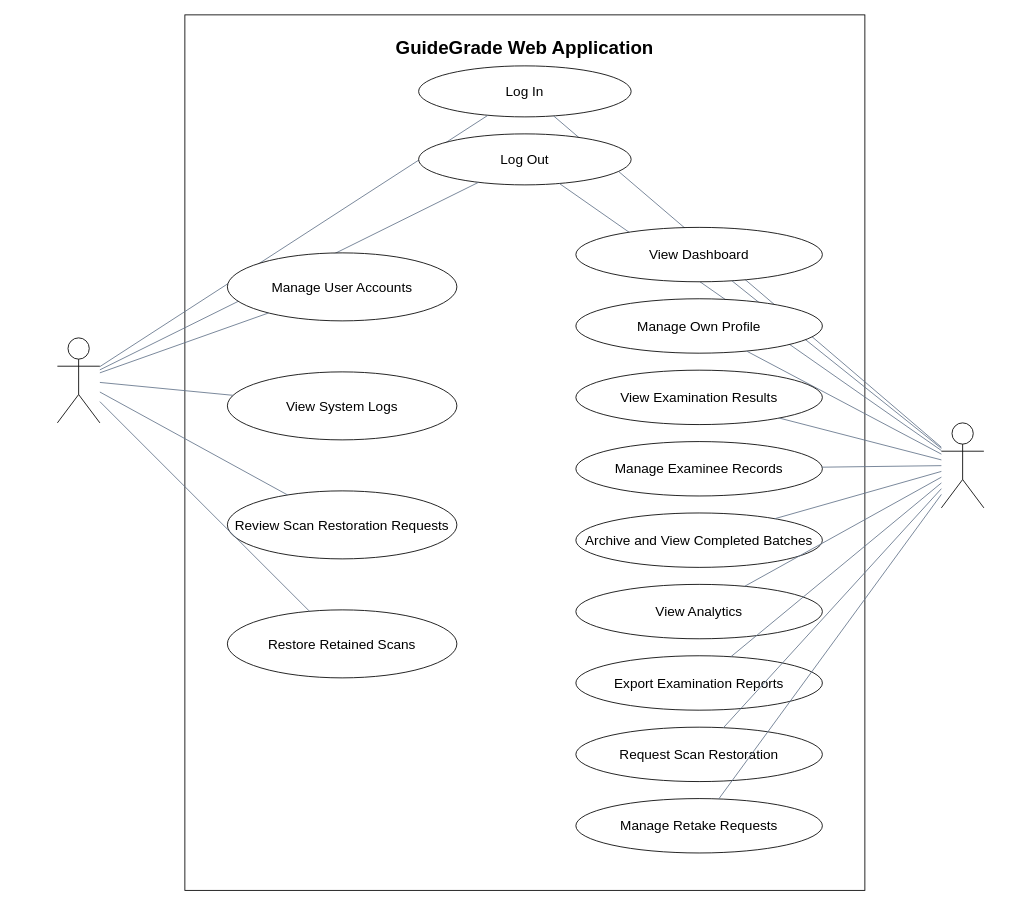
This 1031x905 diagram has some shape labels left out. Here are the shapes that lost their labels. From the top down, the box of each, then its label:
(57, 337, 100, 423): System Administrator
(941, 422, 984, 508): Guidance Council
